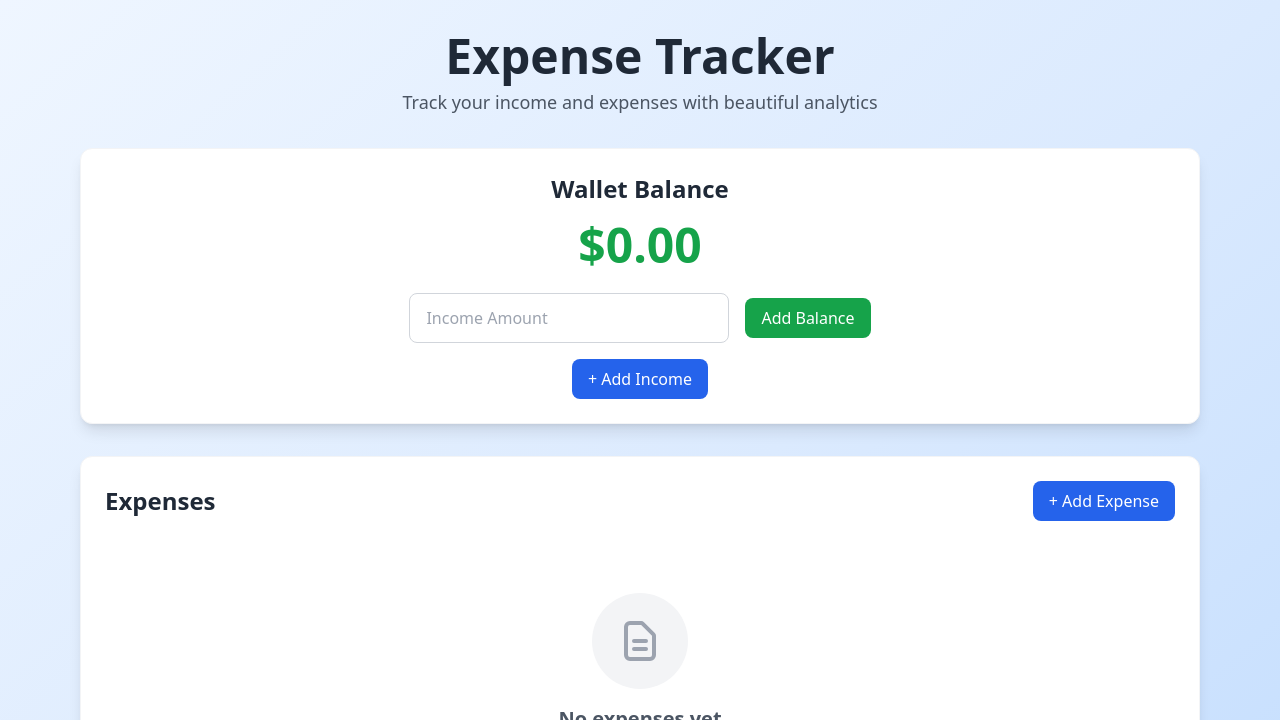
Test: Modern Expense Tracker App › should close modal with smooth animations
Click the button "+ Add Expense". click: (1104, 501)
box: [1033,481,1175,521]
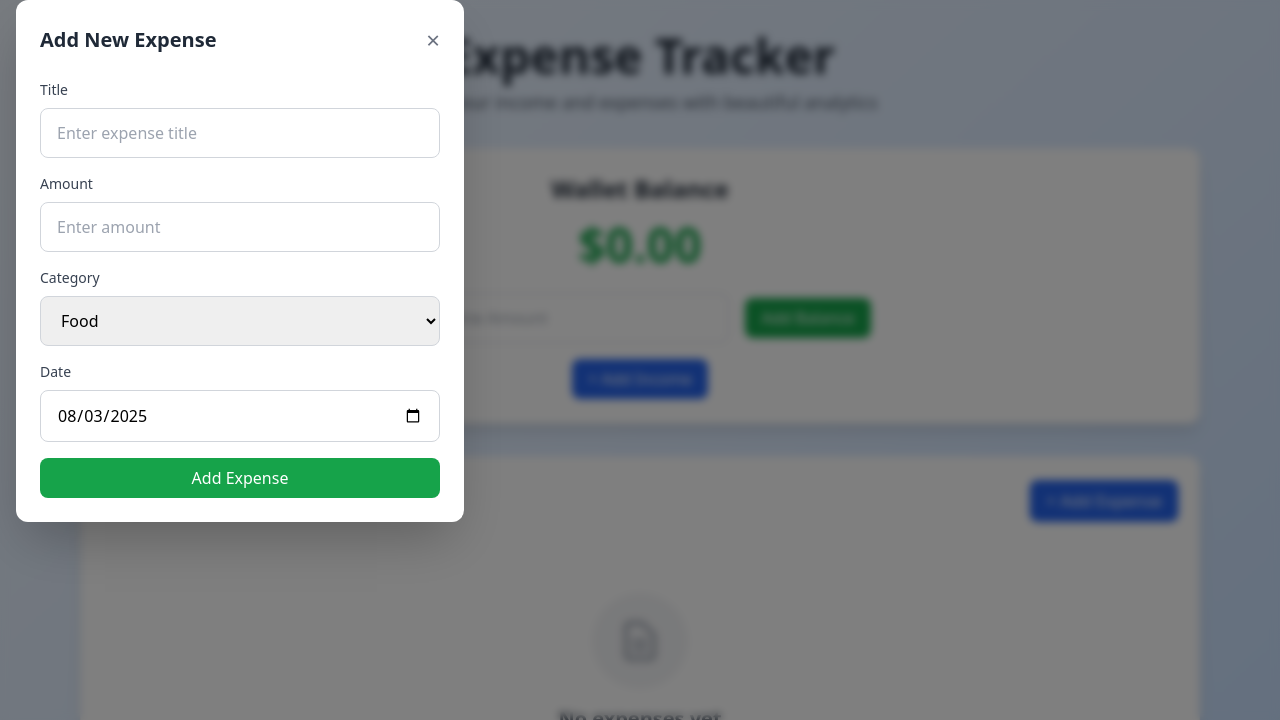
Now the element with class "modal-overlay" is shown
Click the button "×". click: (433, 40)
box: [426,24,440,56]
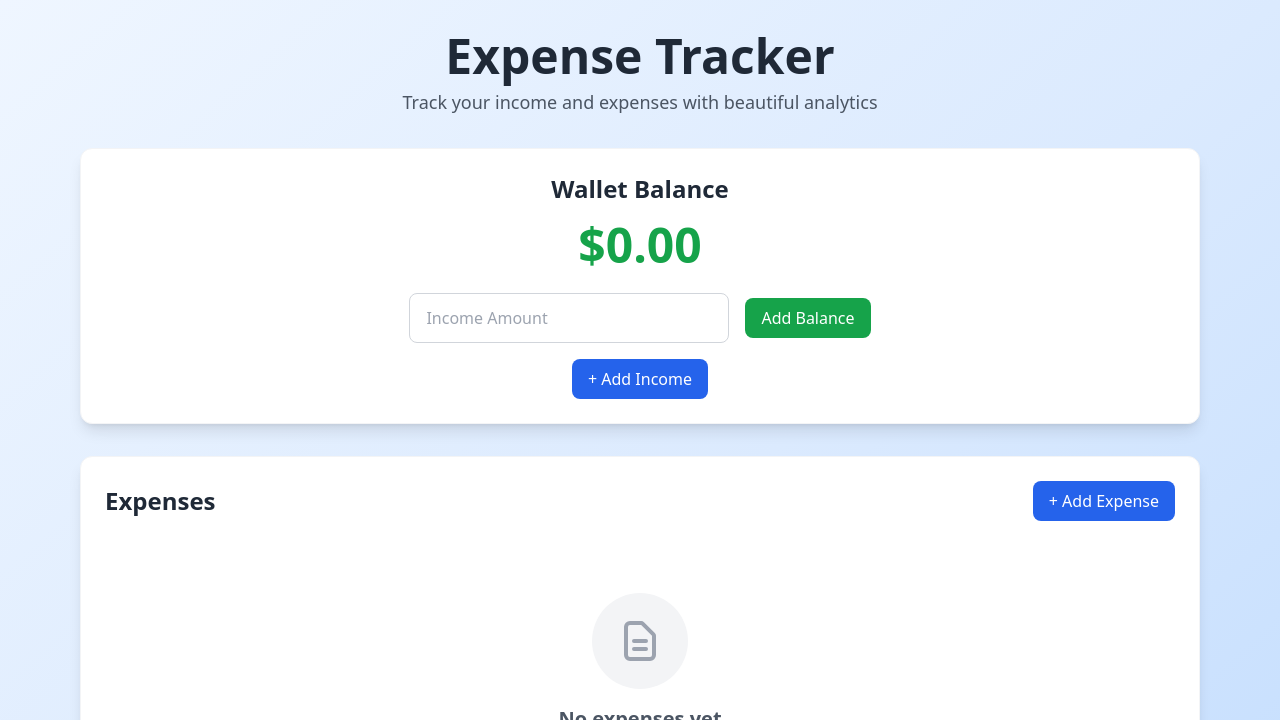
Now the element with class "modal-overlay" is gone
